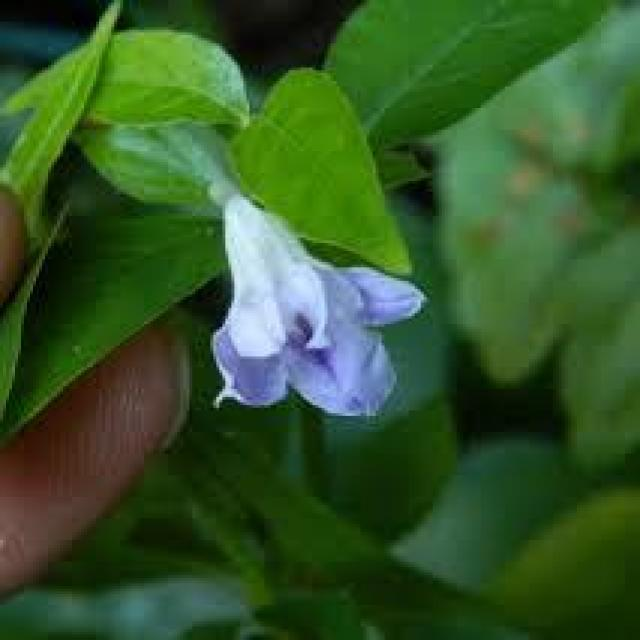organic waste: (188, 170, 431, 419)
